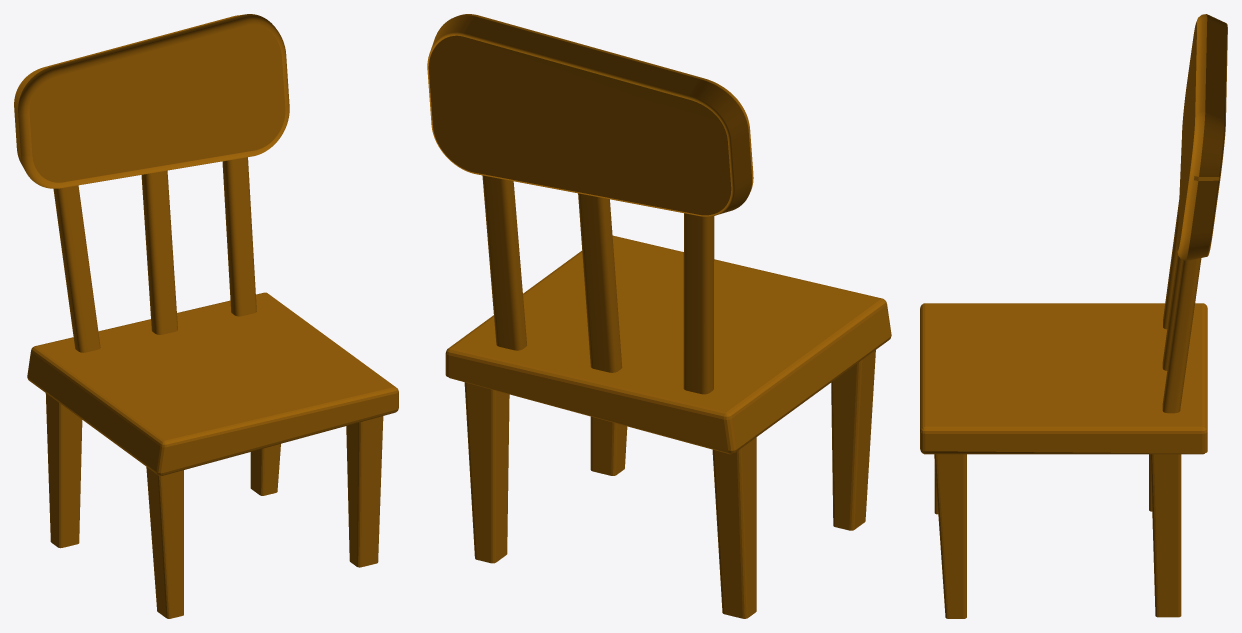
File: dengzi.fbx
3 views of the same model, side by side, from view 1: azimuth 30°, elevation 25°; view 2: azimuth 150°, elevation 25°; view 3: azimuth 270°, elevation 25° (orthographic). The views are drawn at different scales.
Parts seen in each view (by area): view 1: yizi; view 2: yizi; view 3: yizi.
Part boxes in pixels (bbox=[...]): yizi: bbox=[14, 14, 398, 618]; yizi: bbox=[427, 14, 891, 618]; yizi: bbox=[920, 14, 1227, 618].
Bounding box in the file's own units: 39.77 × 66.38 × 37.13.
